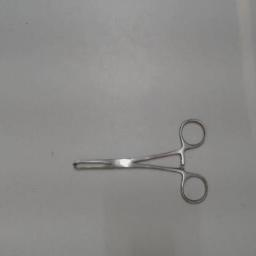Allis Tissue Forceps: (68, 115, 210, 211)
